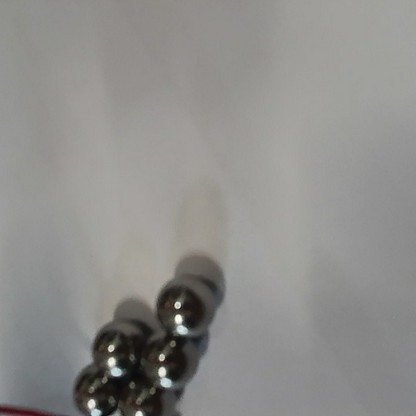ironball: (156, 273, 221, 339), (140, 329, 201, 391), (87, 314, 152, 371), (70, 355, 127, 414), (109, 369, 162, 414)
